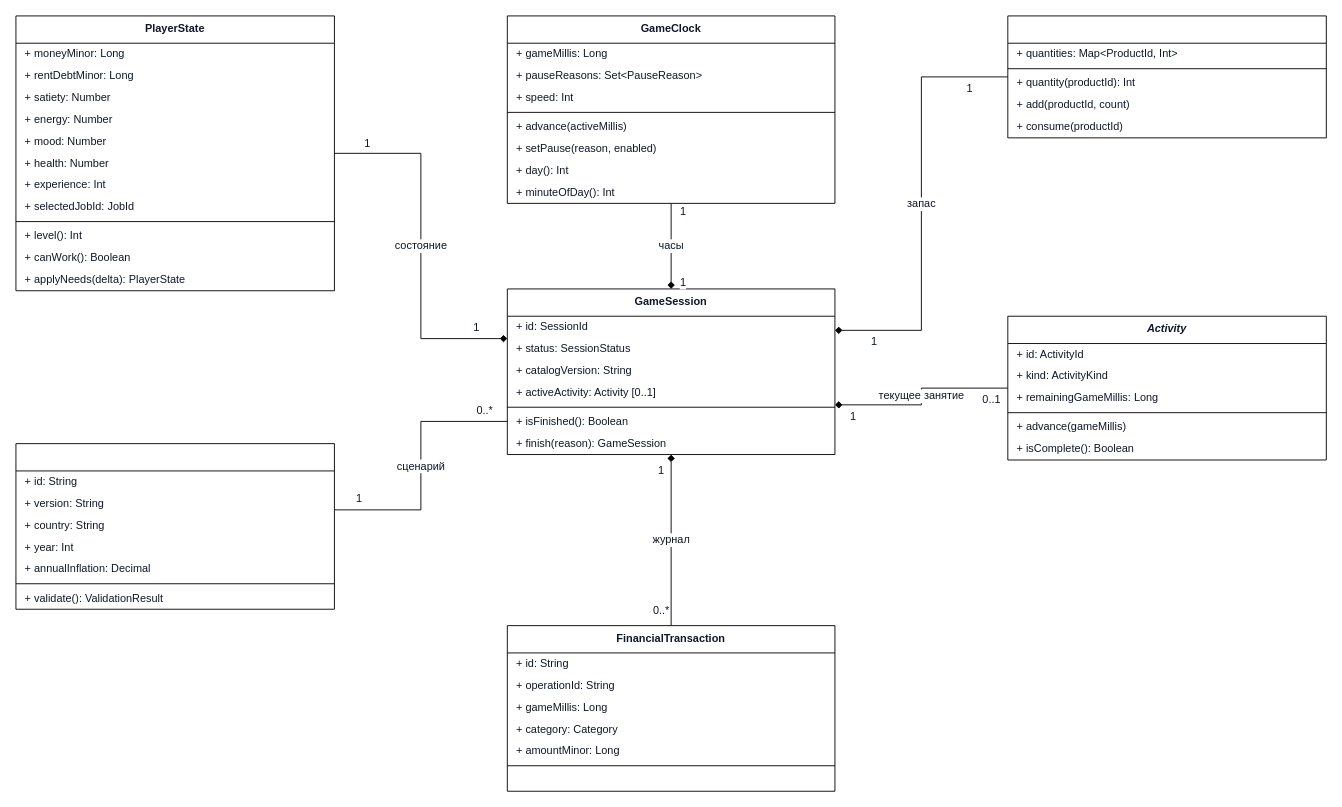
Some shapes in this 1342 by 807 pixel diagram are drawn without their labels. Each missing label, with the box of its shape:
EconomicScenario: (15, 443, 334, 609)
Inventory: (1007, 15, 1326, 138)
